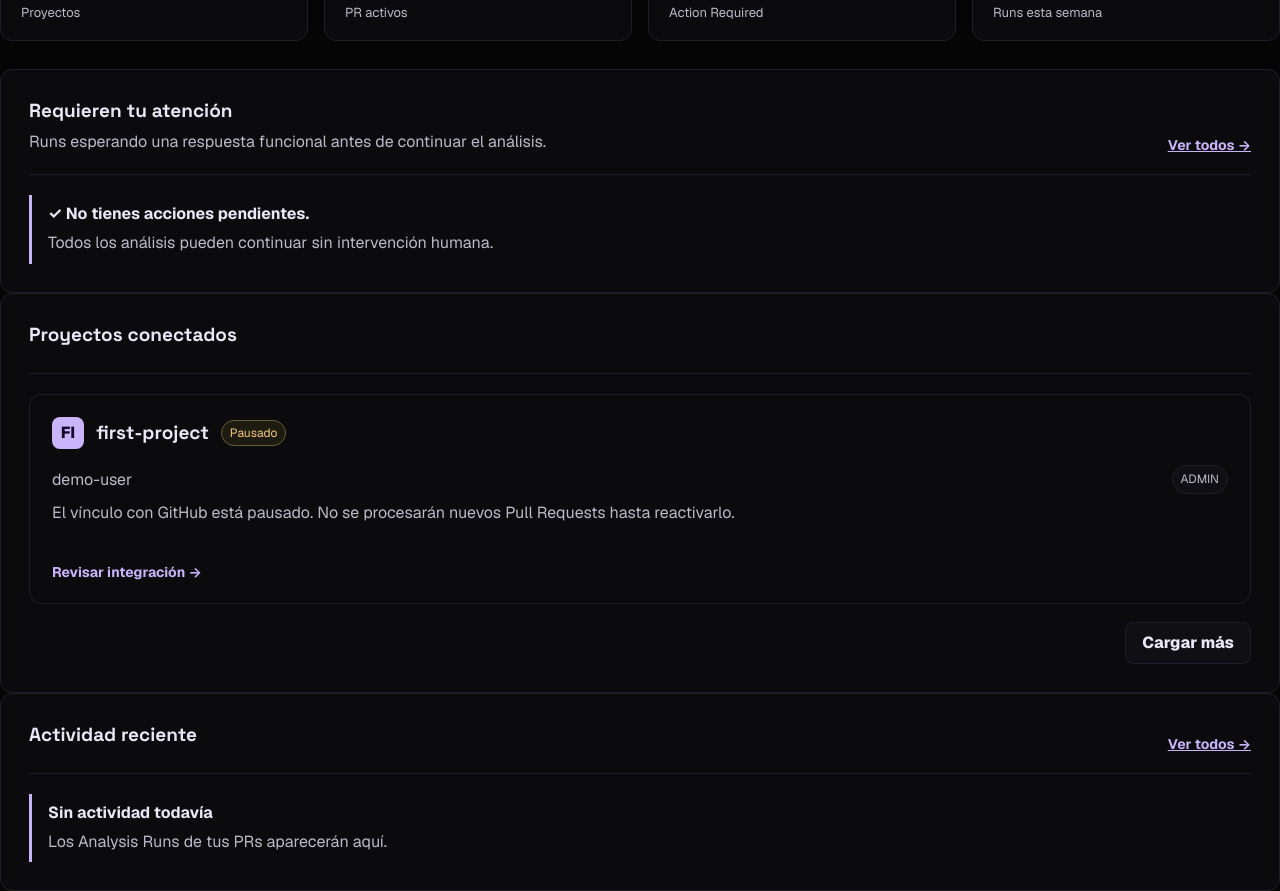
ofrece "Cargar más" cuando el listado live trae nextCursor
(page scrolled)
Expected: the heading "first-project" is shown, [96,420,209,445]
Click the button "Cargar más".
click(1188, 643)  # box [1125,622,1251,664]
(page scrolled)
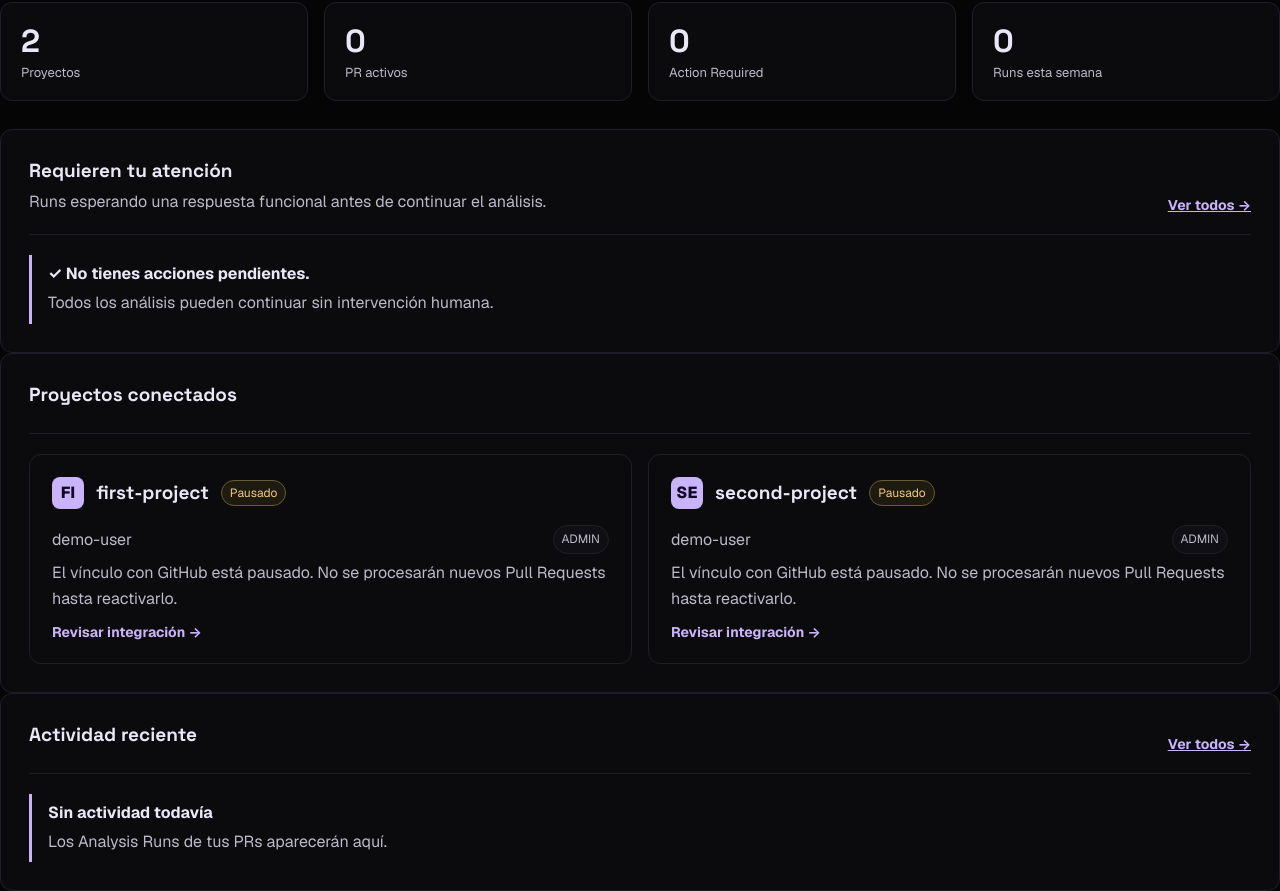
Now the heading "second-project" is shown, box [715,480,857,505]
